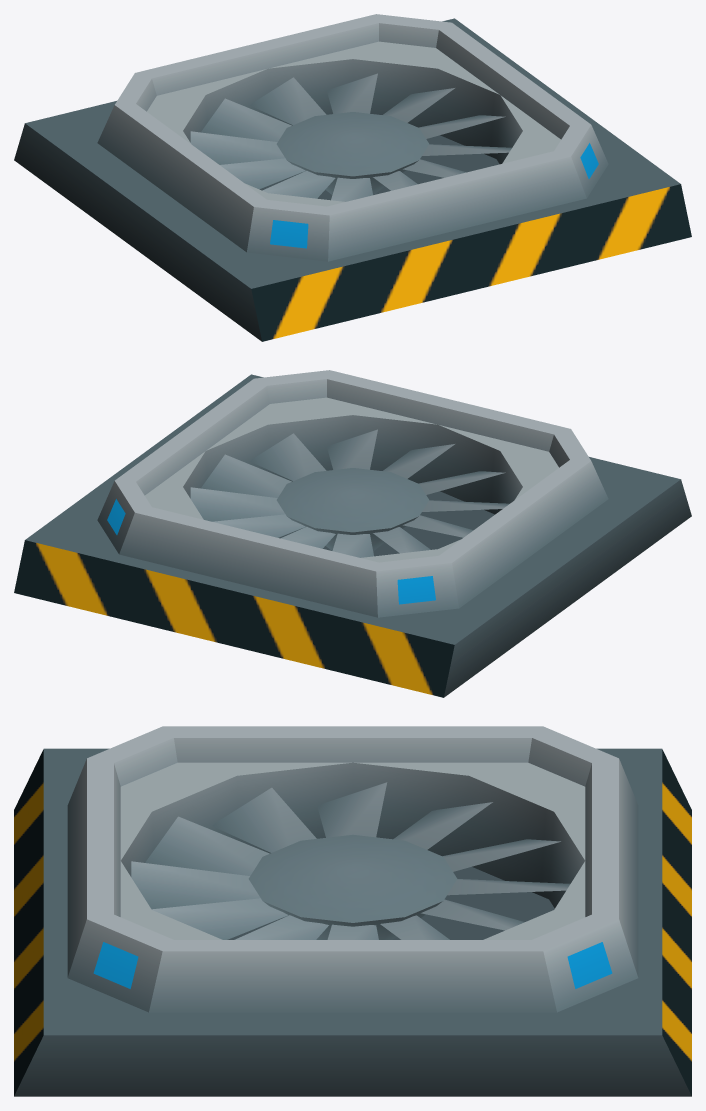
Rendered from Ventilation_005.glb.
The picture shows the model from 3 angles, top to bottom: view 1: azimuth 30°, elevation 25°; view 2: azimuth 150°, elevation 25°; view 3: azimuth 270°, elevation 25°; orthographic projection. The views are drawn at different scales.
Visible parts, largest first — view 1: Ventilation_005, Ventilation_016; view 2: Ventilation_005, Ventilation_016; view 3: Ventilation_005, Ventilation_016.
Boxes of the visible parts, x1,y1,x2,y2 form: Ventilation_005: (14,14,691,341); Ventilation_016: (190,73,511,201); Ventilation_005: (14,370,691,697); Ventilation_016: (190,429,509,557); Ventilation_005: (14,726,691,1096); Ventilation_016: (131,782,570,939).
Bounding box in the file's own units: 1 × 0.2138 × 1.
2 materials, 2 textured.
